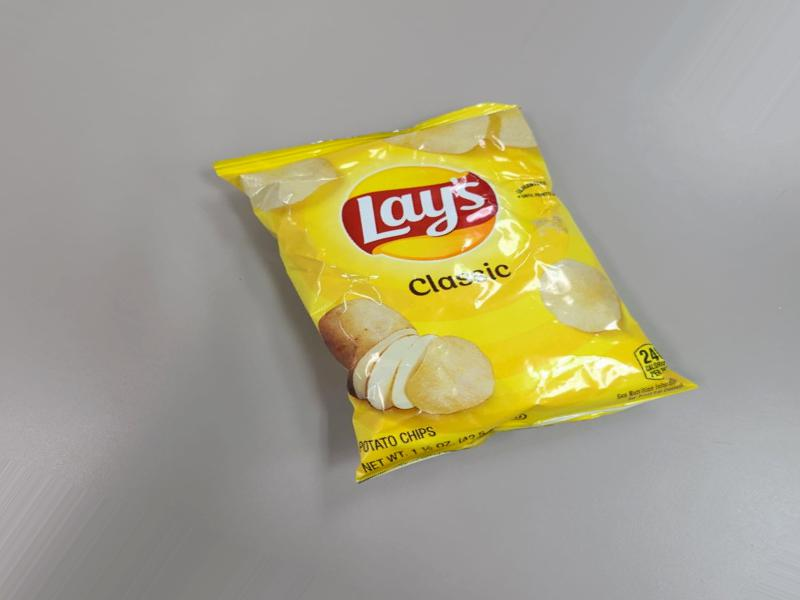lays: (309, 168, 736, 476)
